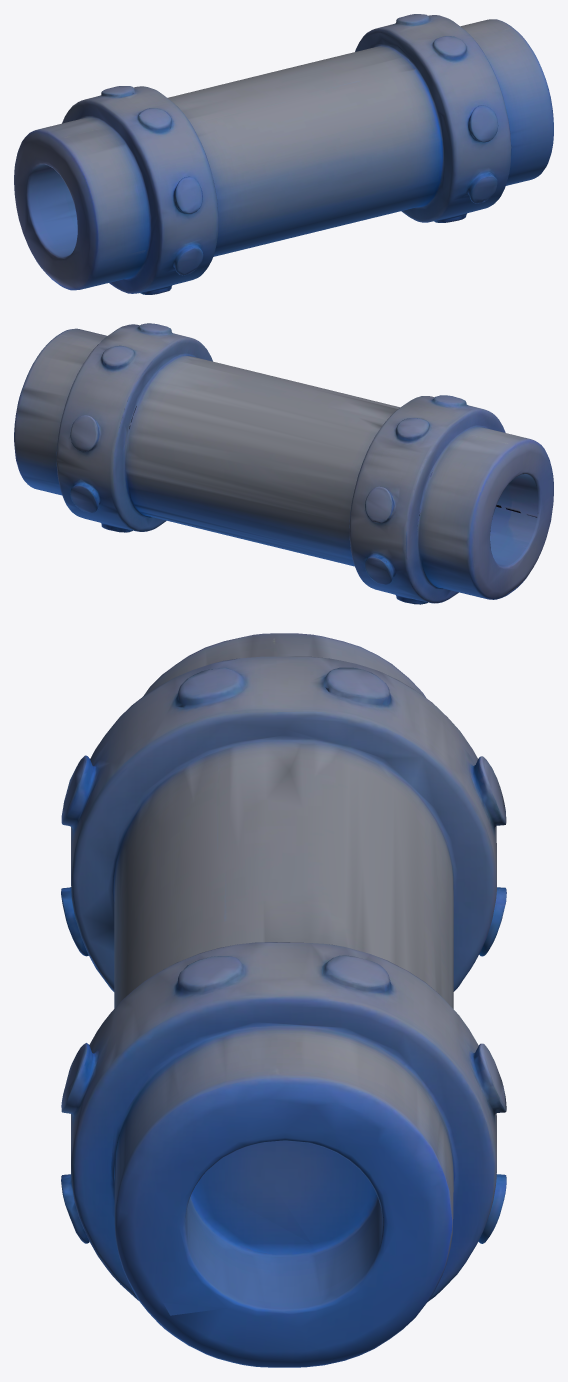
The model's file is env_tunnelpipe.glb.
3 views of the same model, one above another, from view 1: azimuth 30°, elevation 25°; view 2: azimuth 150°, elevation 25°; view 3: azimuth 270°, elevation 25° (orthographic). The views are drawn at different scales.
Parts seen in each view (by area): view 1: model; view 2: model; view 3: model.
Part boxes in pixels (x1,y1,x2,y2): model: (14,14,553,294); model: (14,323,553,604); model: (61,633,506,1367).
Bounding box in the file's own units: 1.9 × 0.7023 × 0.7908.
Materials: 1 (1 with a texture image).
